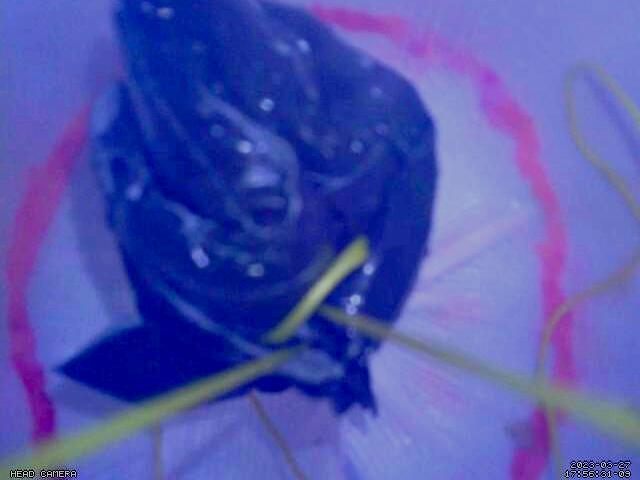head: (4, 2, 577, 480)
